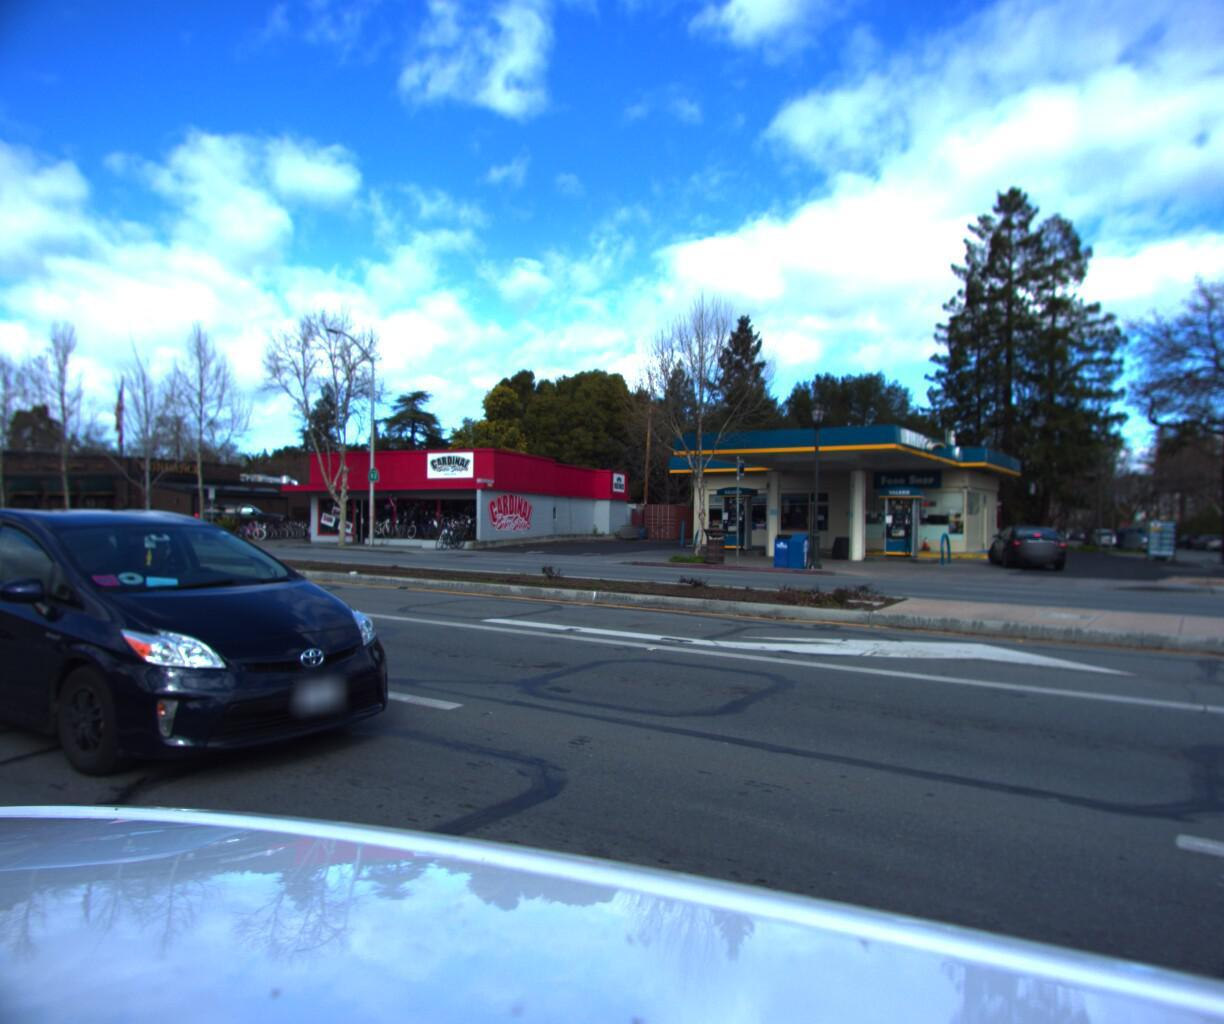bicycle: (235, 521, 267, 542), (255, 520, 286, 541), (441, 528, 460, 552), (375, 523, 388, 544), (401, 526, 413, 548), (386, 526, 397, 548)
car: (0, 493, 442, 811), (981, 517, 1068, 570), (0, 513, 54, 539), (1114, 522, 1160, 547), (1085, 525, 1118, 544), (0, 508, 2, 537)
